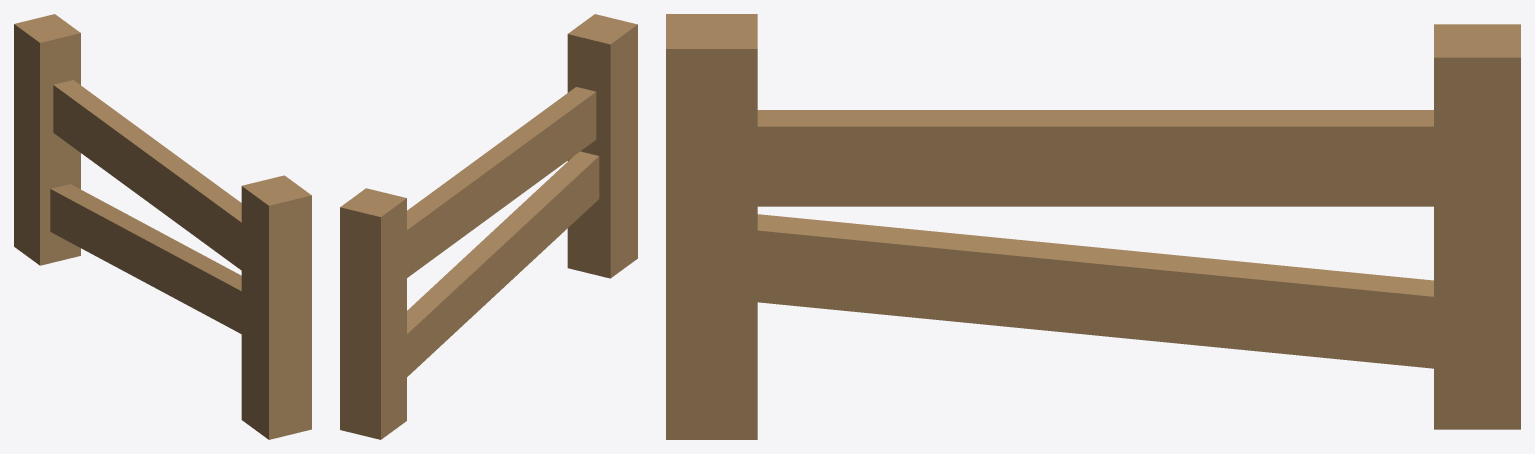
The model's file is fence2LP.fbx.
The picture shows the model from 3 angles, left to right: view 1: azimuth 30°, elevation 25°; view 2: azimuth 150°, elevation 25°; view 3: azimuth 270°, elevation 25°; orthographic projection. The views are drawn at different scales.
Parts seen in each view (by area): view 1: fence2; view 2: fence2; view 3: fence2.
Part boxes in pixels (left/top/right/bottom): fence2: left=14, top=14, right=311, bottom=439; fence2: left=340, top=14, right=637, bottom=439; fence2: left=666, top=14, right=1520, bottom=439.
Bounding box in the file's own units: 24.66 × 129 × 255.
